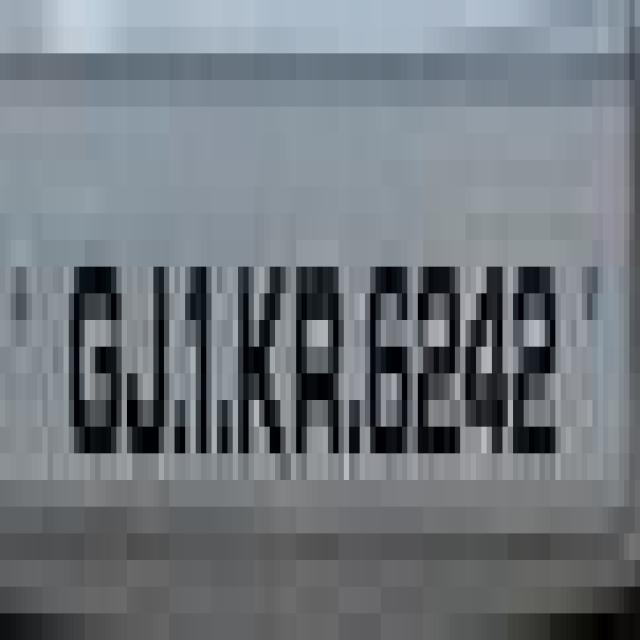license_plate: (21, 26, 640, 586)
